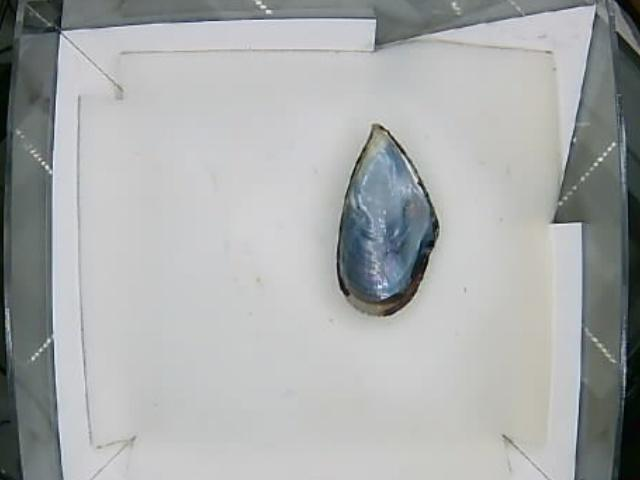Shell: (336, 121, 439, 317)
